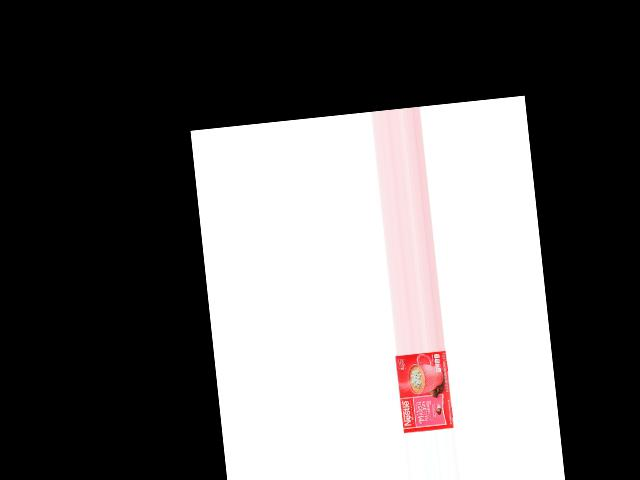chocolate: (397, 349, 456, 431)
